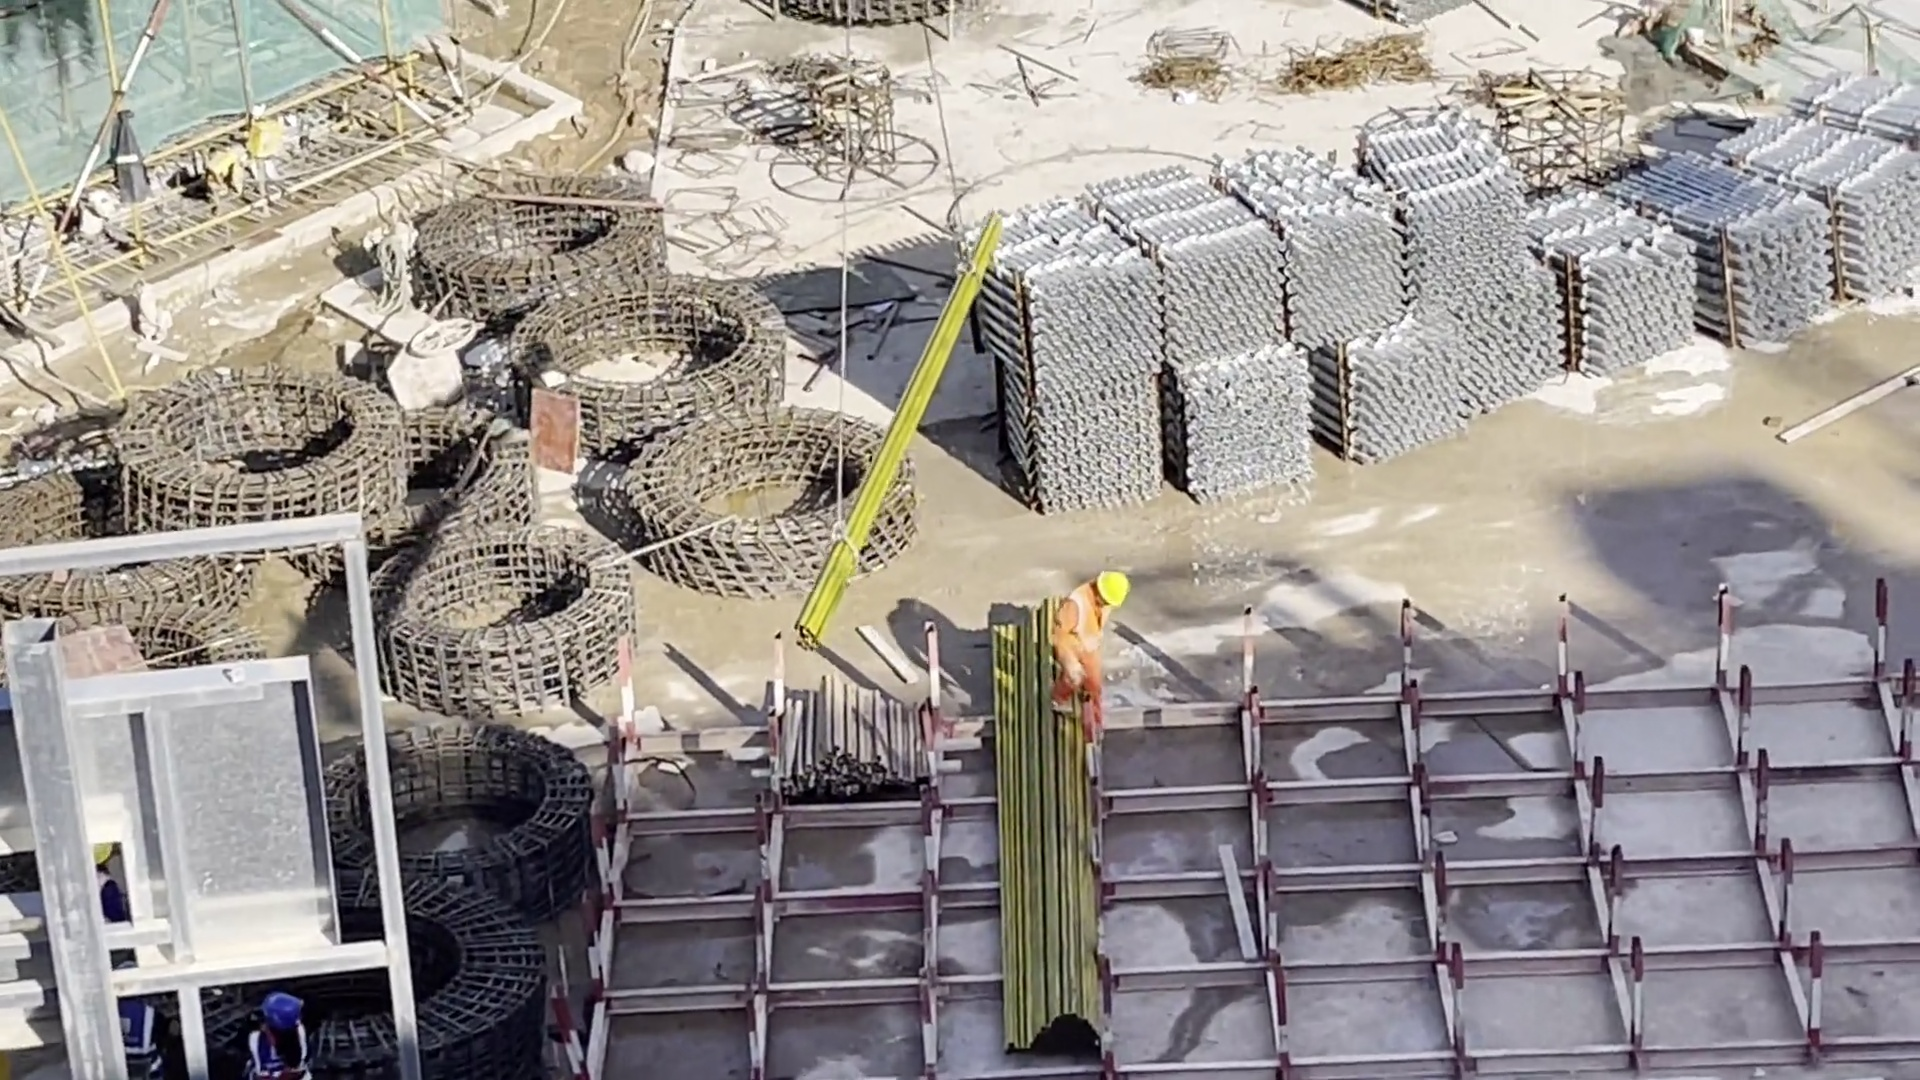helmet: (1092, 567, 1131, 607)
person: (1049, 565, 1131, 771)
scaffold: (960, 64, 1920, 514)
vest: (1064, 583, 1110, 648)
